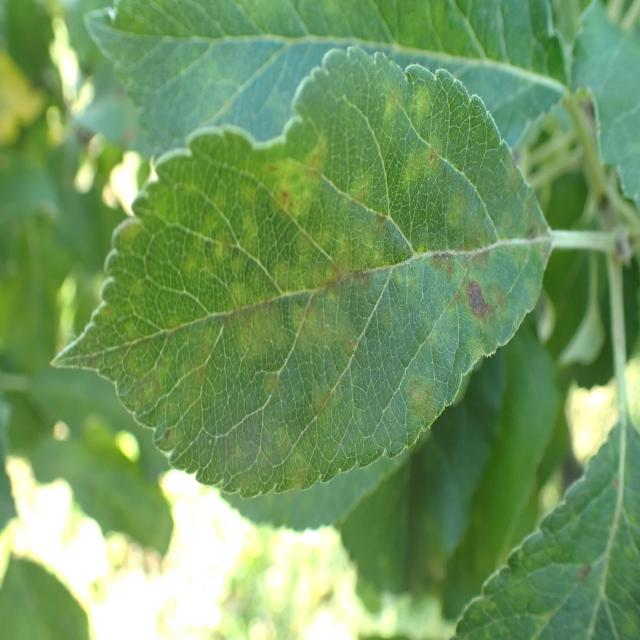scab: (71, 87, 558, 487), (542, 440, 636, 635)
